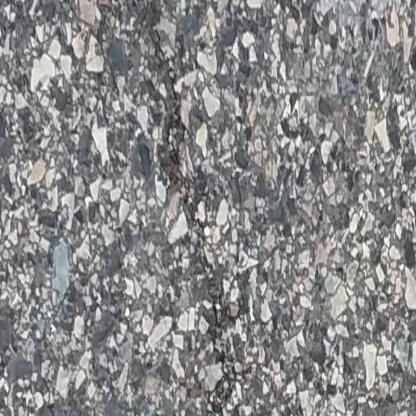Cracks: (104, 0, 231, 416)
